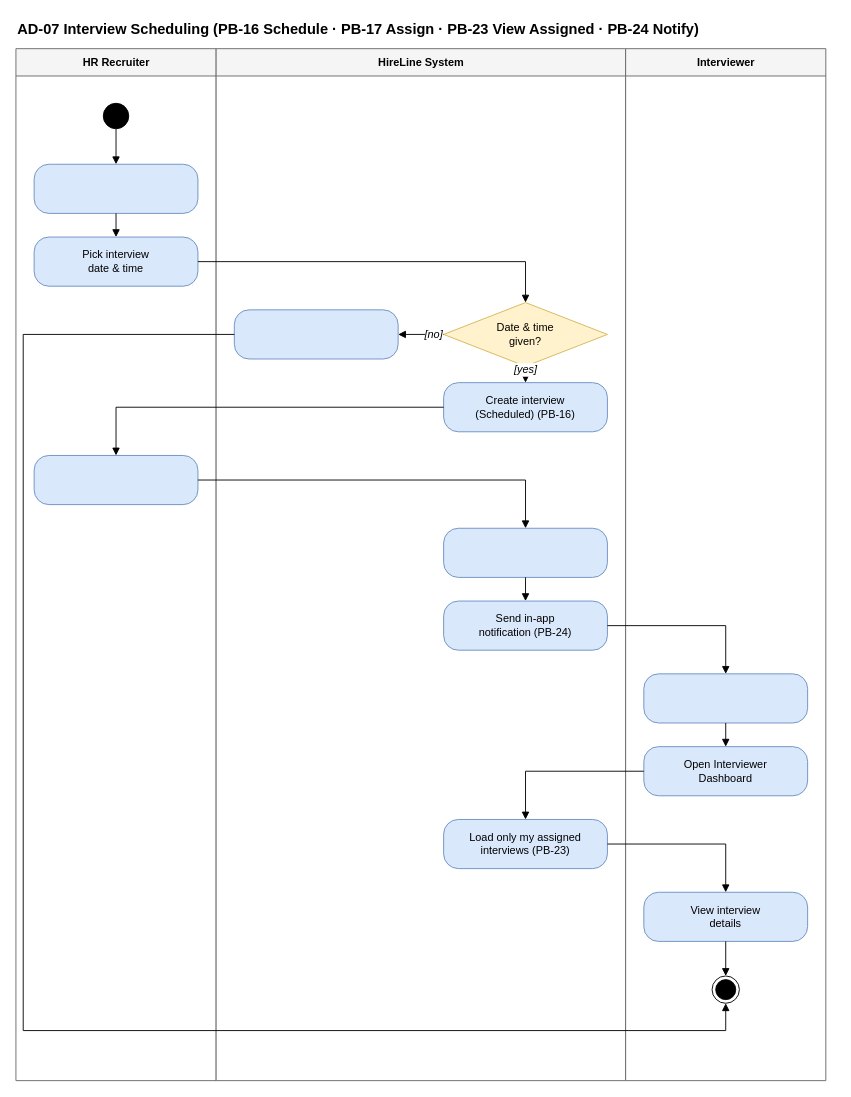
Some shapes in this 851 by 1097 pixel diagram are drawn without their labels. The centre of each missing label's shape, as x and y in pixels:
Assign interviewer to interview (PB-17): point (525, 552)
Open shortlisted candidate: point (115, 188)
See notification on login: point (725, 698)
Select interviewer: point (115, 480)
Show error message: point (315, 334)
